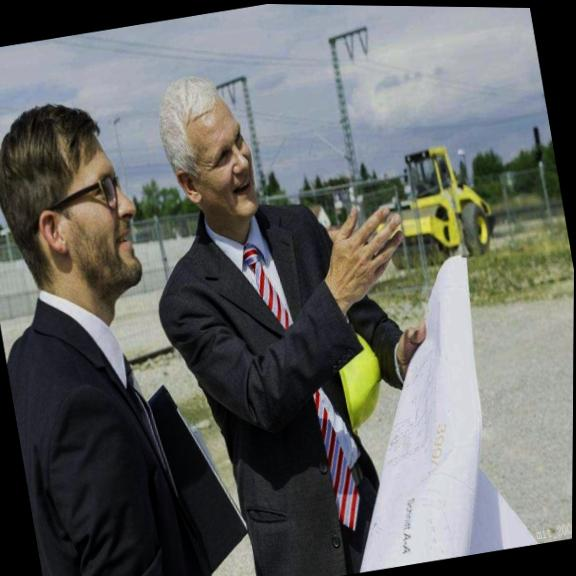no_safety_vest: (137, 180, 400, 576), (0, 282, 225, 576)
